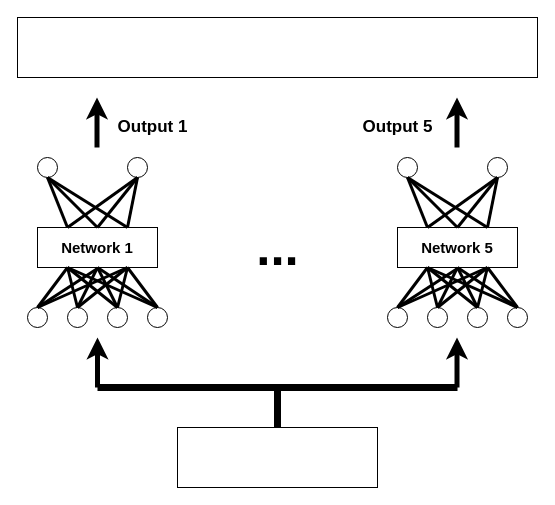
The diagram is 555 pixels wide and 505 high, and some of its shapes have lost their labels. Each missing label, with the centre of its shape:
Combine network outputs: point 277,47
Training data: point 277,457
